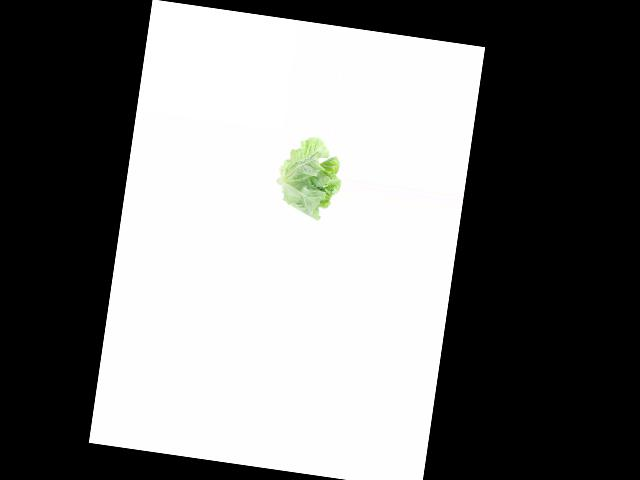lettuce: (274, 134, 346, 224)
